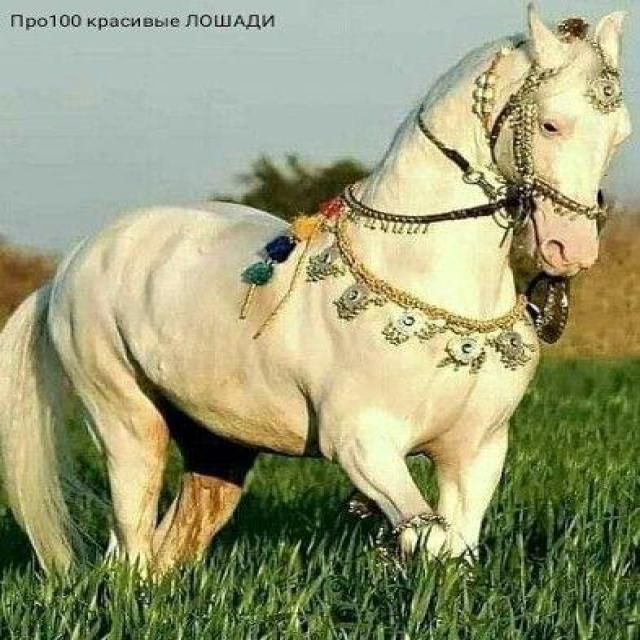horse: (0, 1, 632, 592)
